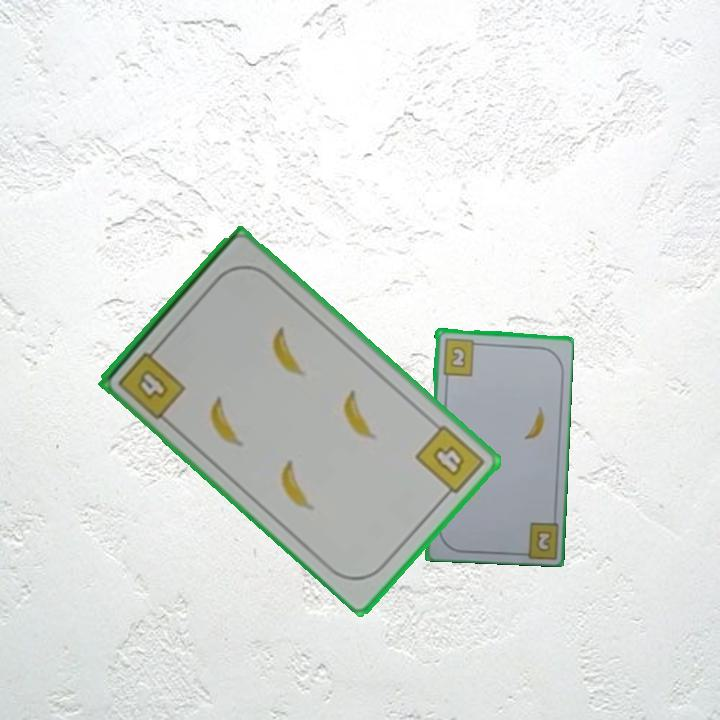2b: (439, 335, 483, 378), (533, 527, 554, 555)
4b: (412, 421, 488, 503), (114, 340, 189, 423)
